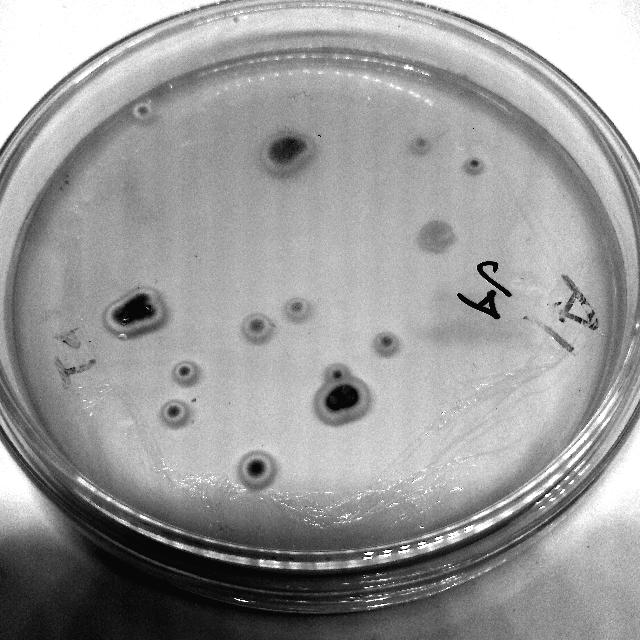colony: (258, 130, 316, 176), (414, 218, 460, 256), (330, 378, 370, 418), (236, 449, 274, 488), (102, 302, 138, 338), (159, 400, 191, 432), (134, 301, 166, 331), (240, 314, 270, 342), (372, 328, 400, 356), (172, 362, 202, 388), (320, 388, 346, 416), (127, 286, 157, 310), (408, 132, 434, 158), (128, 100, 156, 124), (326, 362, 352, 386), (288, 296, 308, 318), (464, 155, 484, 175)
